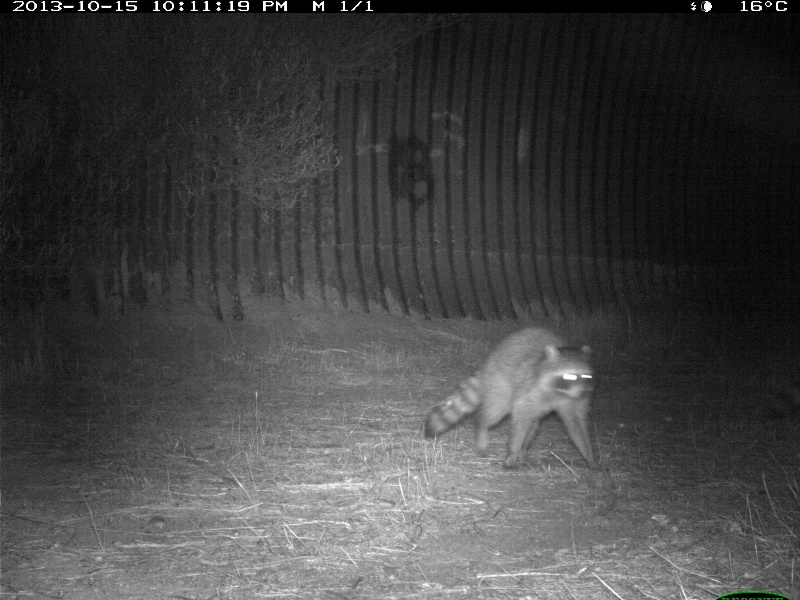raccoon: (419, 325, 602, 470)
